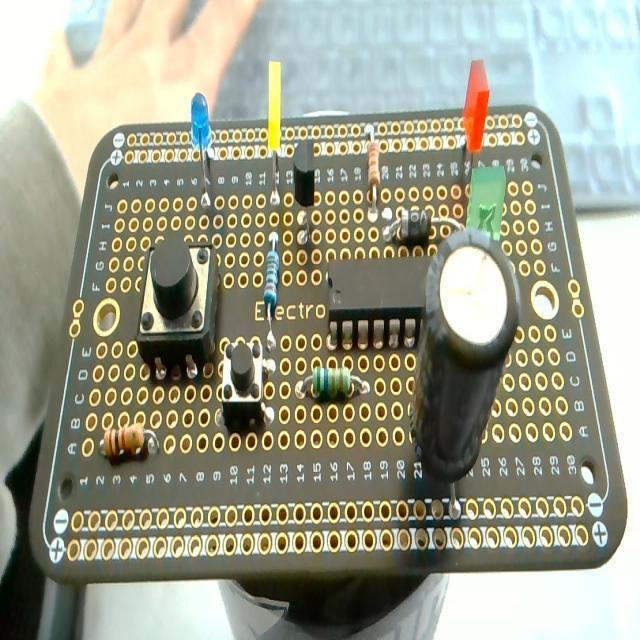Electrolytic capacitor: (412, 236, 516, 483)
IC: (326, 256, 429, 340)
diode: (384, 207, 432, 244)
led: (466, 166, 506, 237), (190, 90, 214, 206), (462, 59, 491, 155), (267, 63, 282, 207)
resistor: (297, 365, 369, 401), (262, 229, 281, 357), (101, 424, 157, 461), (366, 132, 381, 217)
switch: (136, 237, 219, 374), (221, 337, 269, 427)
transistor: (293, 141, 315, 244)
